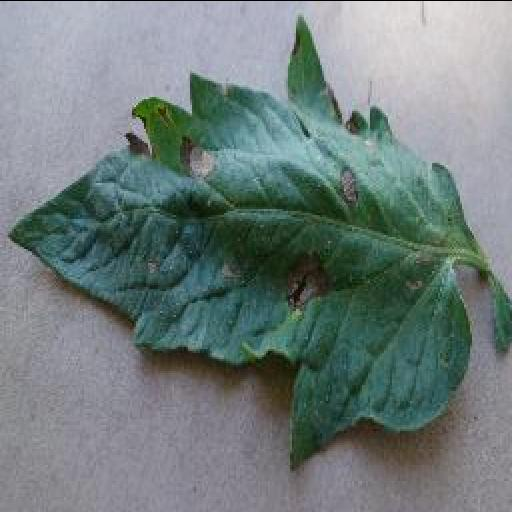disease_tomato: (2, 14, 474, 460)
